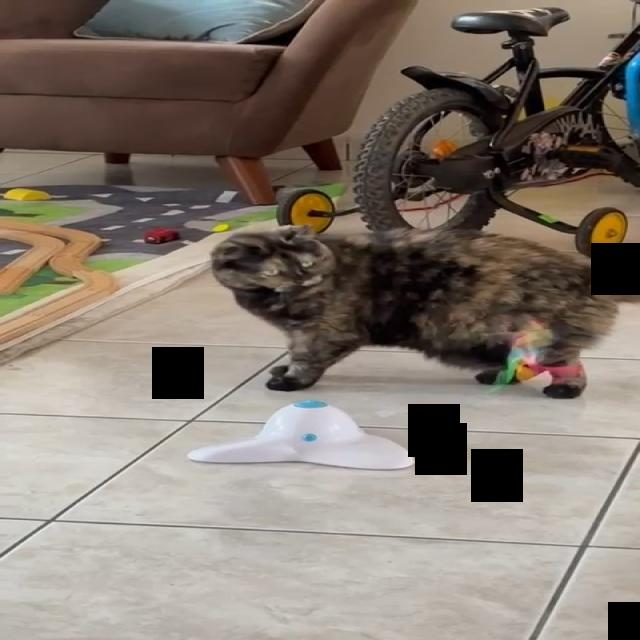authorized: (208, 222, 639, 398)
